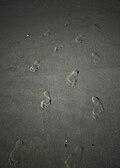human_footprint: (8, 139, 23, 166), (92, 96, 104, 119), (67, 69, 78, 85), (41, 91, 50, 107), (30, 61, 39, 71)
